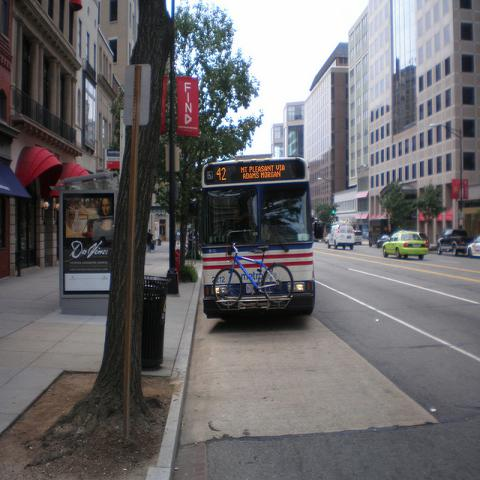bus: (190, 152, 316, 319)
car: (382, 230, 429, 260), (437, 228, 471, 257), (326, 225, 357, 253), (467, 237, 479, 258), (354, 229, 363, 245)
